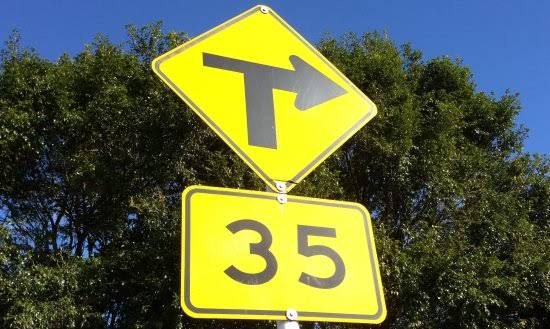right: (243, 4, 406, 213), (264, 11, 379, 166), (304, 12, 391, 147), (273, 18, 349, 165), (283, 24, 369, 145), (287, 42, 331, 94)
